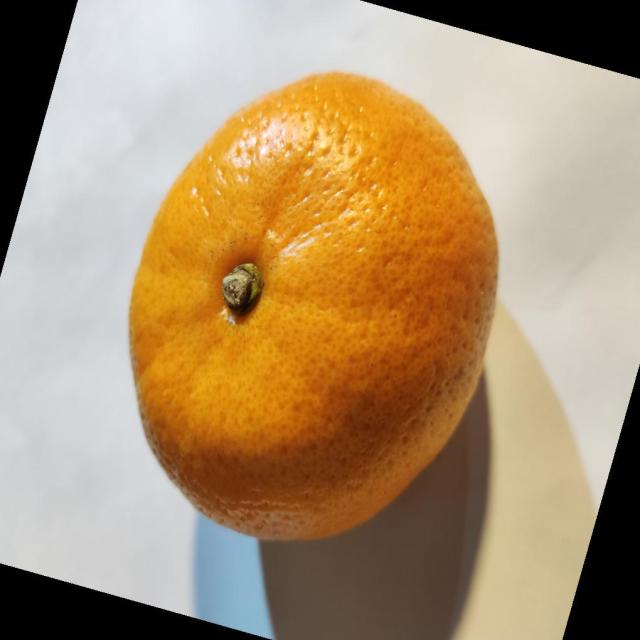fresh orange: (127, 70, 500, 542)
